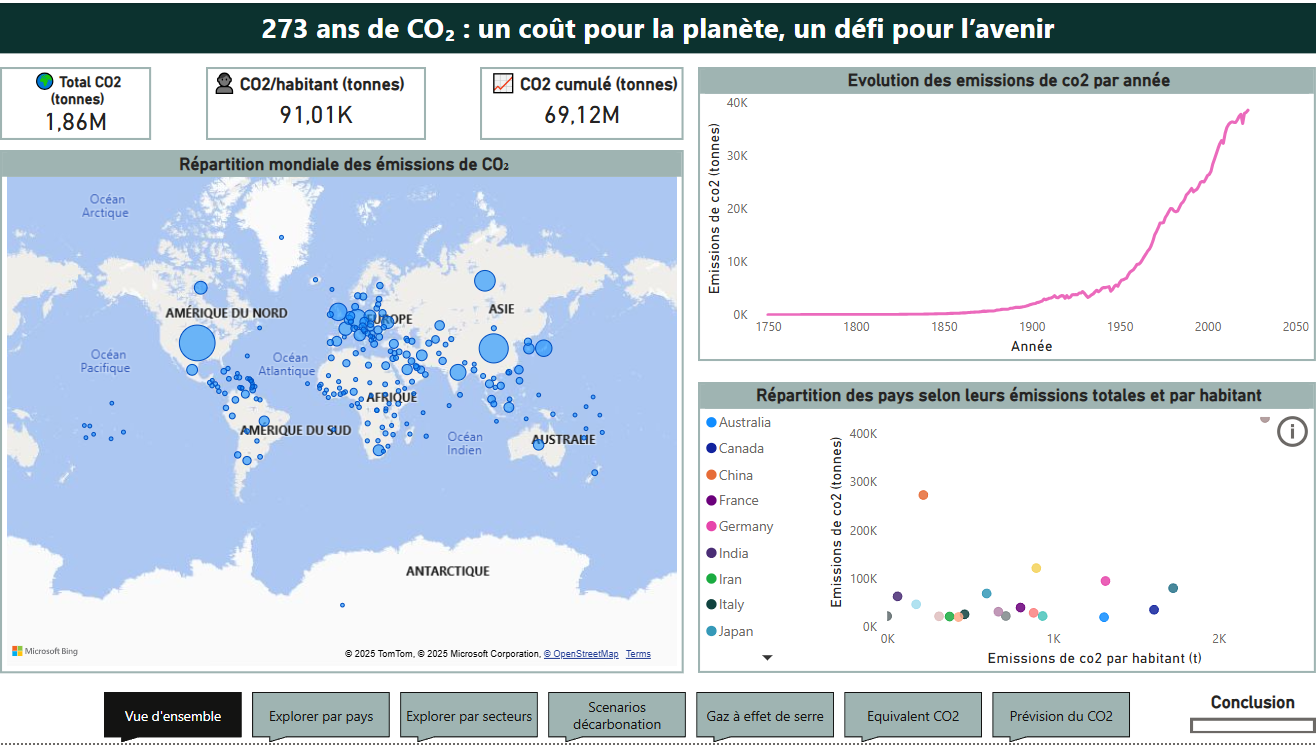

The dashboard page shown, as its layout file describes it:
{"tool":"powerbi","page":{"name":"Vue d'ensemble ","canvas":[1280,720],"ordinal":0},"visuals":[{"type":"card","title":"🌍 Total  CO2 (tonnes)","fields":{"Values":["DAX.Total emissions co2"]},"box":[0,62.2,146.9,71],"z":0},{"type":"map","title":"Répartition mondiale des émissions de CO₂","fields":{"Size":["Sum(Data.co2)"],"Category":["Data.Pays"]},"box":[0,143,665.3,508.7],"z":1000},{"type":"lineChart","title":"Evolution des emissions de co2 par année","fields":{"Y":["Sum(Data.co2)"],"Category":["Data.Année"]},"box":[678.9,62.2,601.1,286],"z":2000},{"type":"card","title":"👤  CO2/habitant (tonnes)","fields":{"Values":["DAX.Total co2 par habitant"]},"box":[200.4,62.2,214,71],"z":3000},{"type":"scatterChart","title":"Répartition des pays selon leurs émissions totales et par habitant","fields":{"X":["Sum(Data.co2_par_habitant)"],"Series":["Data.Pays"],"Y":["Sum(Data.co2)"]},"box":[678.9,368.6,601.1,283],"z":4000,"group":"g1"},{"type":"textbox","box":[0,0,1280,48.6],"z":6000},{"type":"pageNavigator","box":[101.2,670.2,999.9,49.6],"z":7000},{"type":"card","title":"📈  CO2 cumulé (tonnes)","fields":{"Values":["Sum(Data.cumul_co2)"]},"box":[466.9,62.2,198.4,71],"z":8000},{"type":"actionButton","title":"Conclusion","box":[1157.4,670.2,122.6,39.9],"z":9000},{"type":"actionButton","box":[1237.3,397.2,42.8,39.9],"z":10000,"group":"g1"},{"type":"group","id":"g1","title":"Groupe 1","box":[678.9,368.6,601.2,283],"z":10001}]}

Visuals, with their boxes in screenshot pixels (x1, y1, x2, y2), scaled from the page's 1280x720 canvas onto the 1316x748 screenshot:
"🌍 Total  CO2 (tonnes)" card: box=[0, 65, 151, 138]
"Répartition mondiale des émissions de CO₂" map: box=[0, 149, 684, 677]
"Evolution des emissions de co2 par année" lineChart: box=[698, 65, 1315, 362]
"👤  CO2/habitant (tonnes)" card: box=[206, 65, 426, 138]
"Répartition des pays selon leurs émissions totales et par habitant" scatterChart: box=[698, 383, 1315, 677]
textbox: box=[0, 0, 1315, 50]
pageNavigator: box=[104, 696, 1132, 747]
"📈  CO2 cumulé (tonnes)" card: box=[480, 65, 684, 138]
"Conclusion" actionButton: box=[1190, 696, 1315, 738]
actionButton: box=[1272, 413, 1315, 454]
"Groupe 1" group: box=[698, 383, 1315, 677]
